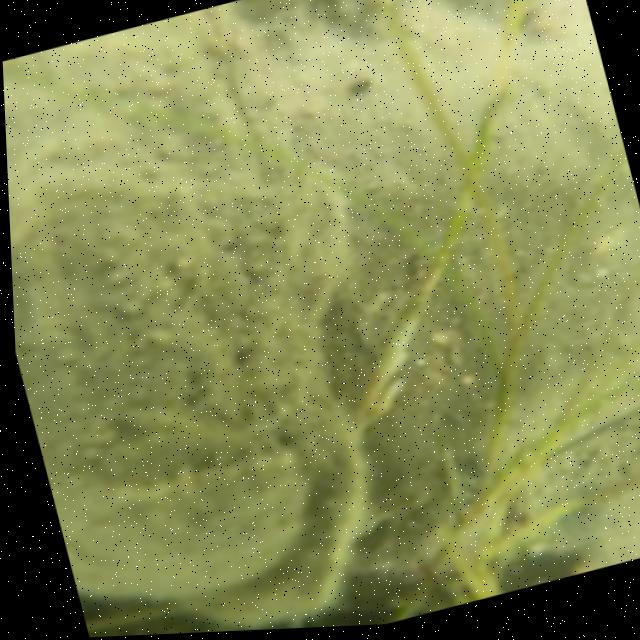Oyster-Closed: (7, 128, 378, 630)
